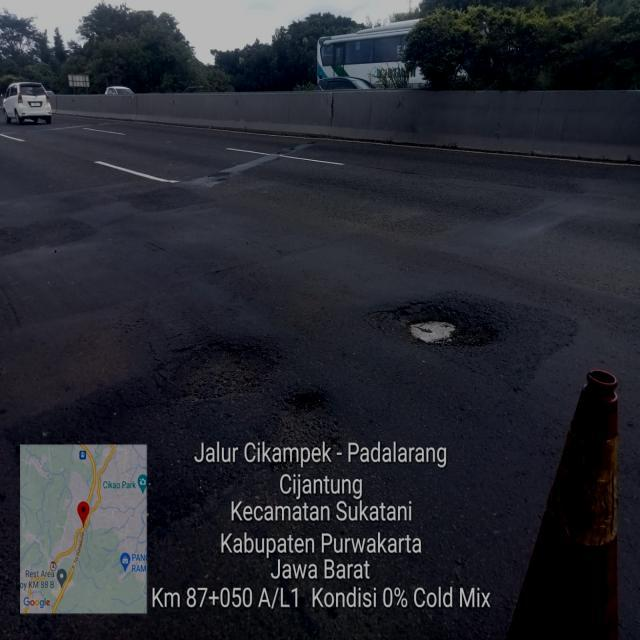Buraco: (146, 334, 286, 410), (358, 297, 507, 351), (268, 384, 336, 446)
